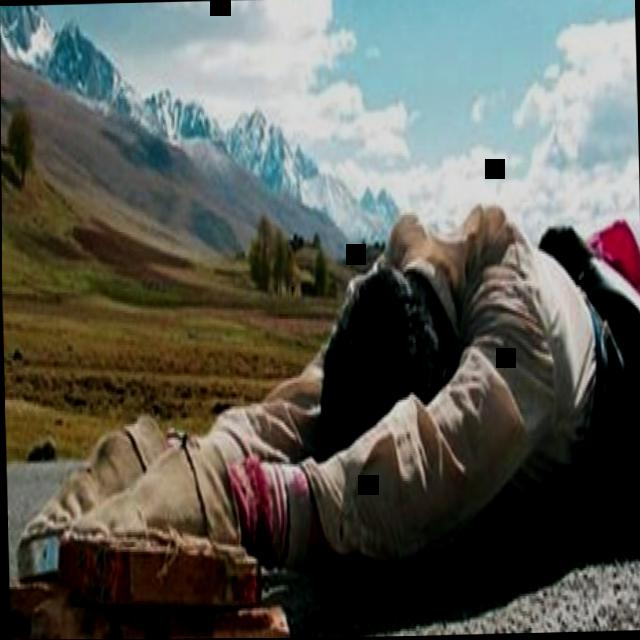Fall-Detected: (1, 165, 640, 640)
